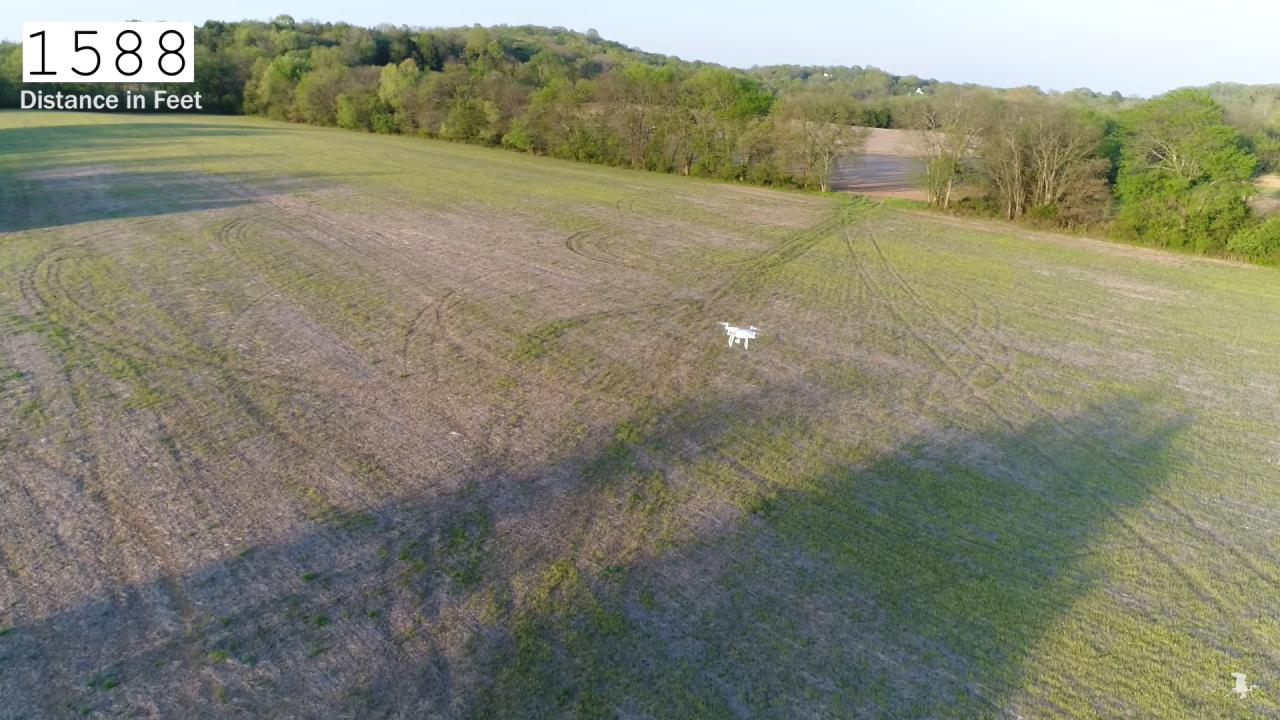Drone: (710, 312, 770, 359)
